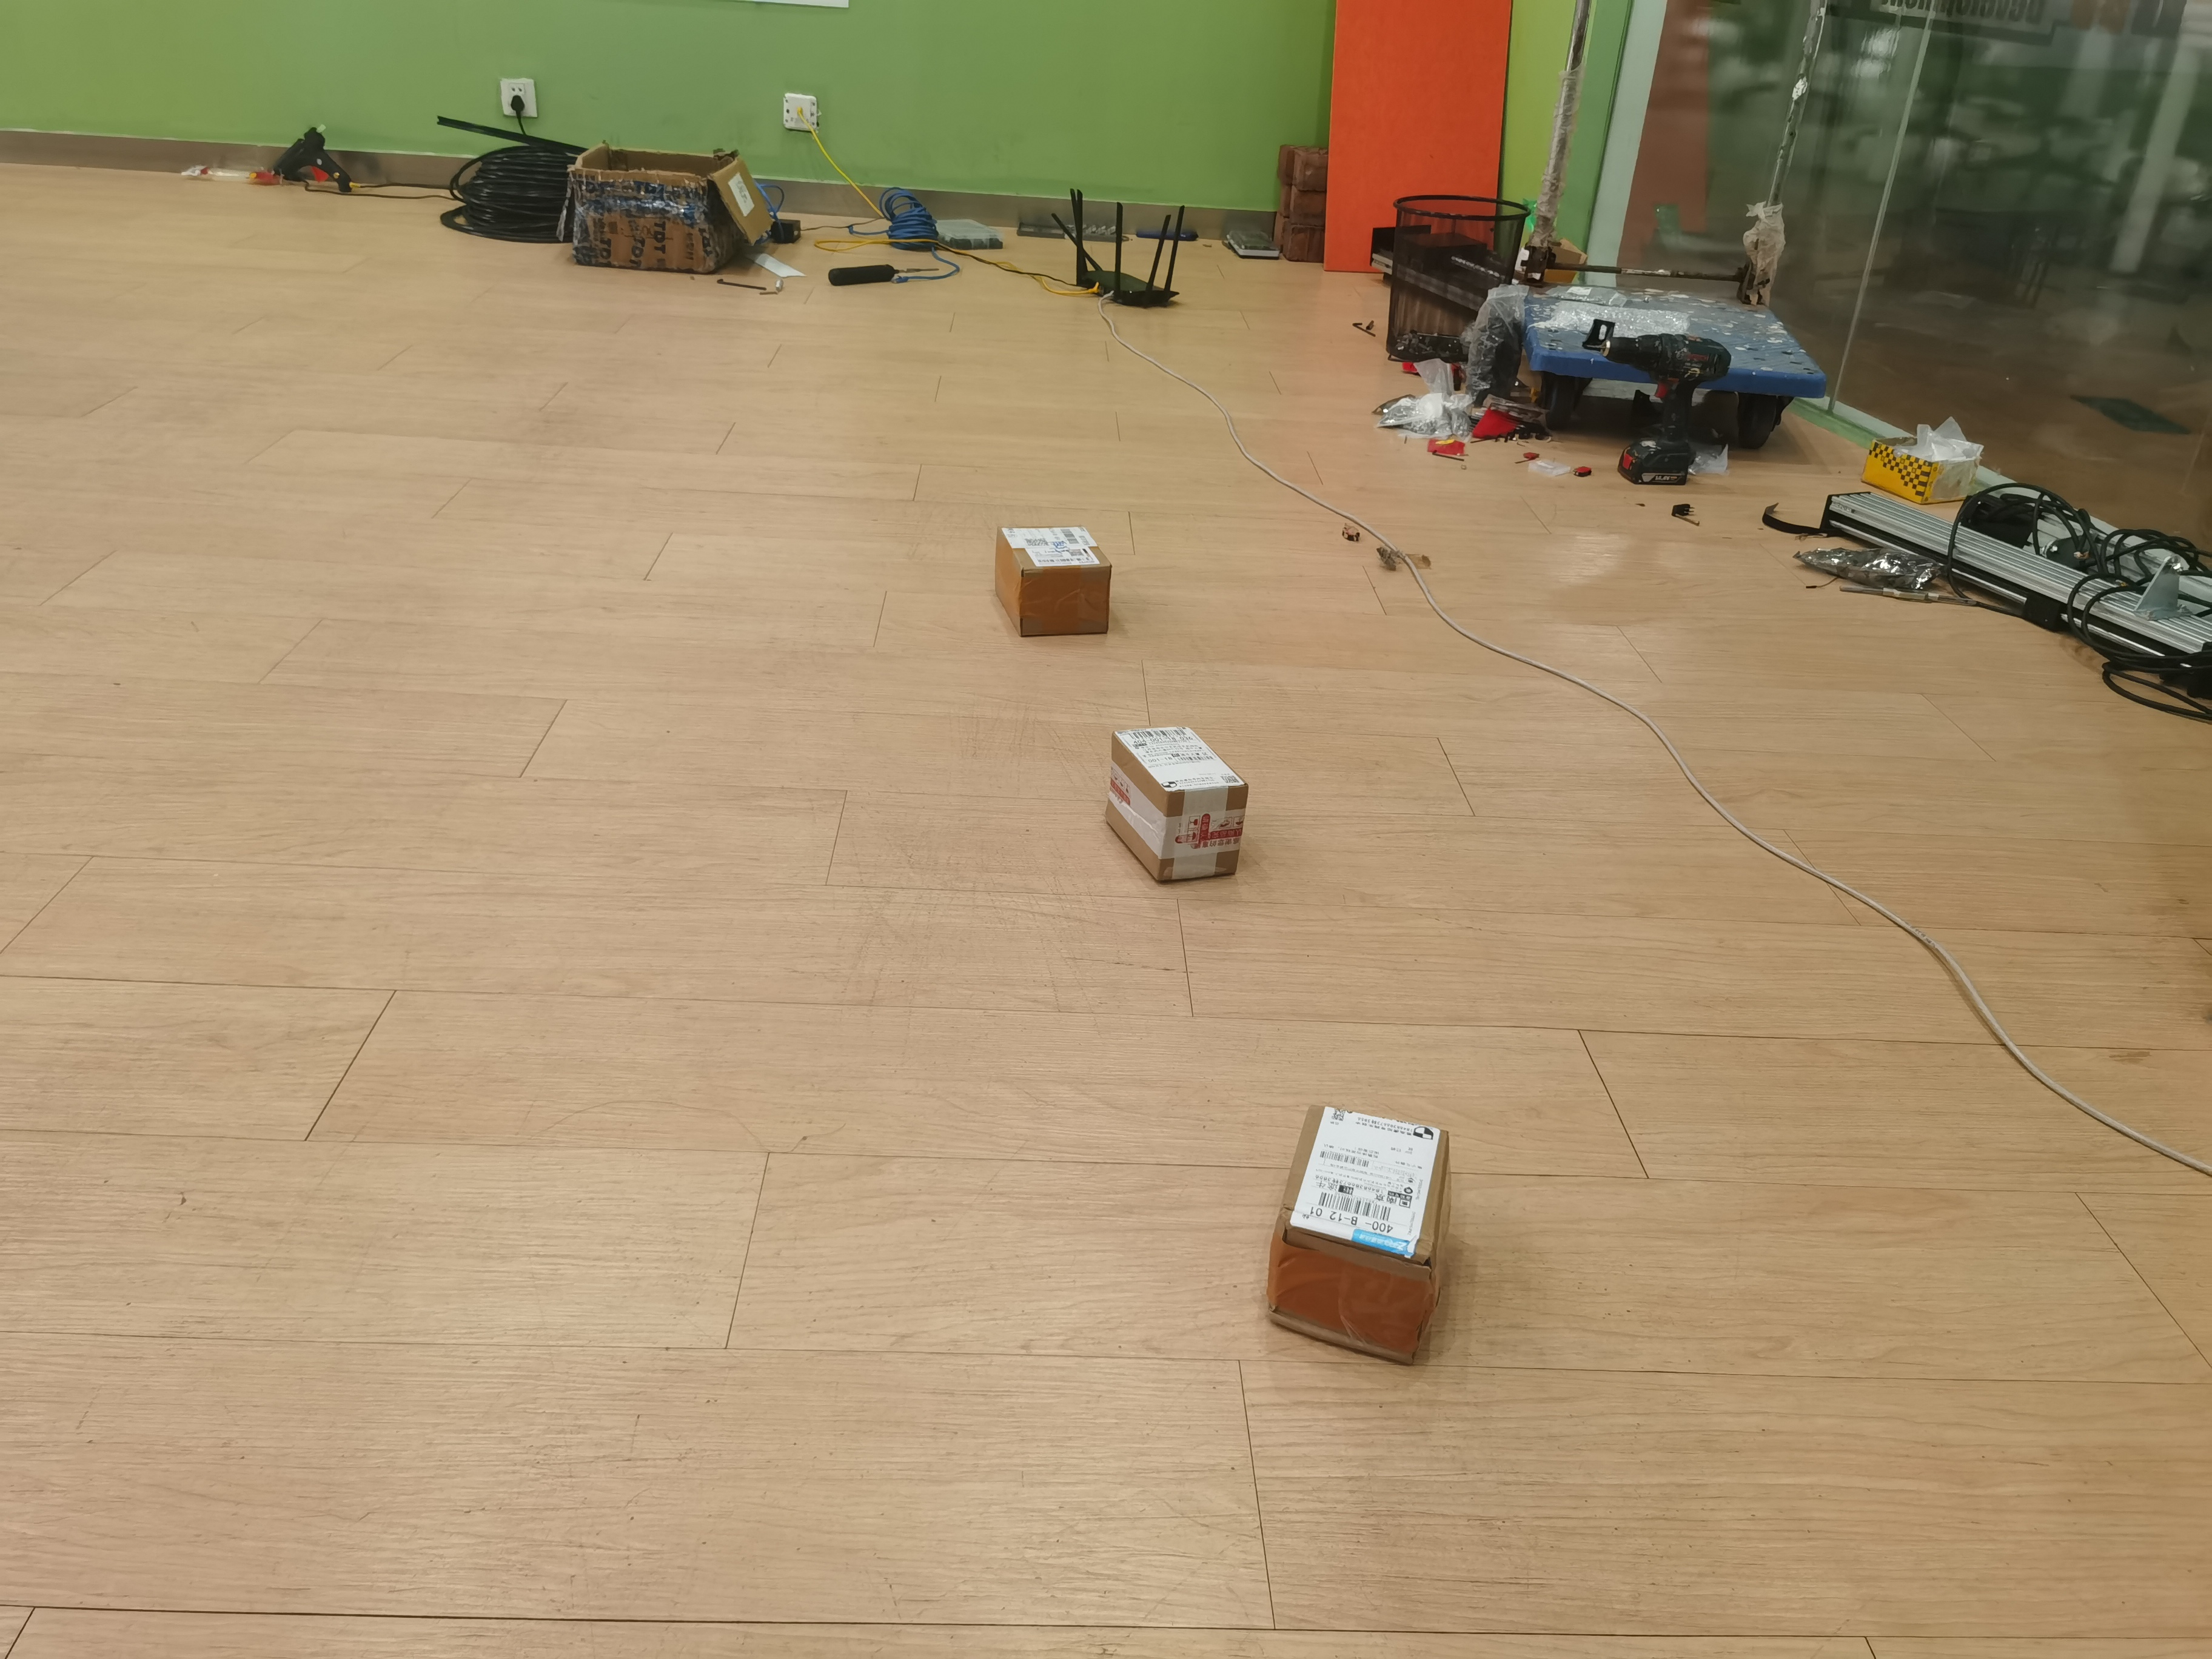box: (1263, 1091, 1470, 1363), (1083, 714, 1263, 901), (989, 514, 1125, 652)
